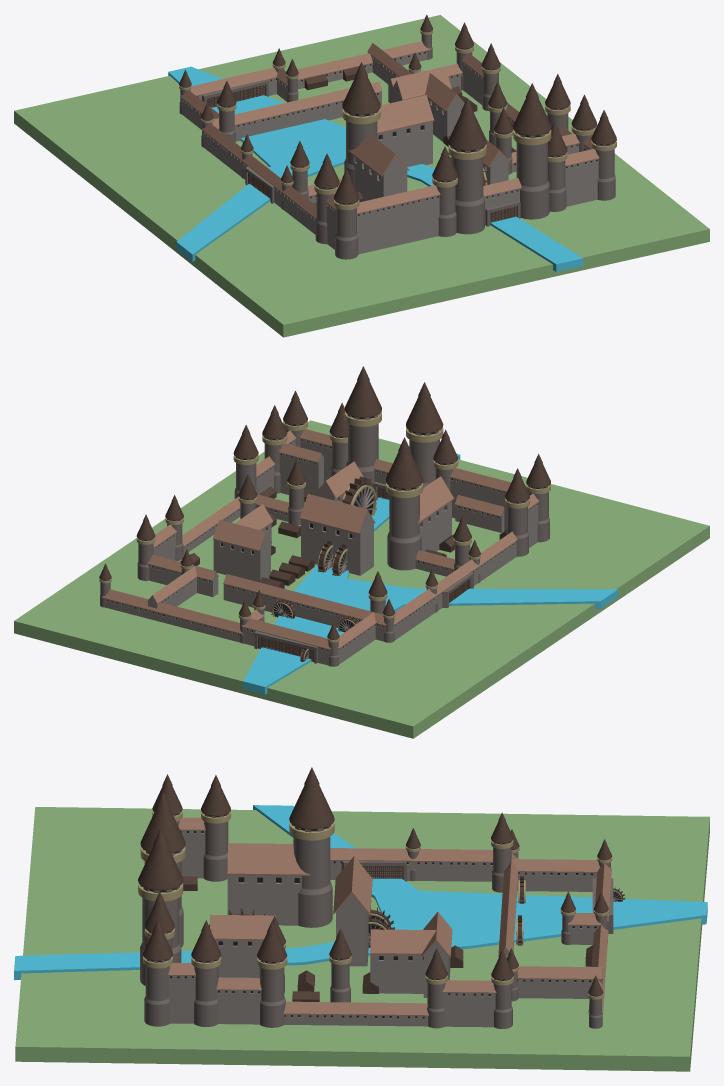
File: Riverrun 2.fbx
3 renders of one model, top to bottom at view 1: azimuth 30°, elevation 25°; view 2: azimuth 150°, elevation 25°; view 3: azimuth 270°, elevation 25°, orthographic. The views are drawn at different scales.
Parts seen in each view (by area): view 1: Riverrun; view 2: Riverrun; view 3: Riverrun.
Part boxes in pixels (x1,y1,x2,y2): Riverrun: (14,14,709,337); Riverrun: (14,366,709,738); Riverrun: (14,767,709,1071).
Size of the model in its own units: 1674 by 533 by 1970.
